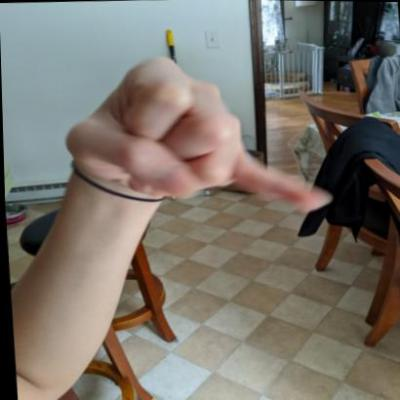hand: (50, 45, 341, 231)
